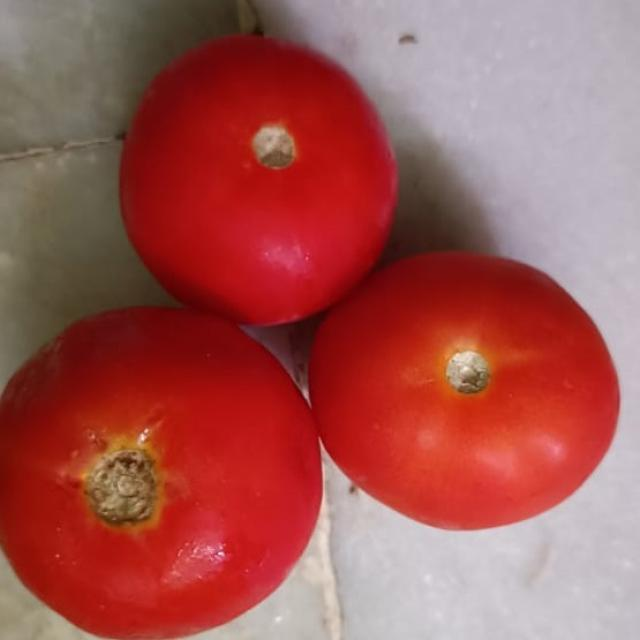ripe tomato: (16, 298, 322, 636), (65, 20, 407, 318), (328, 237, 611, 541)
